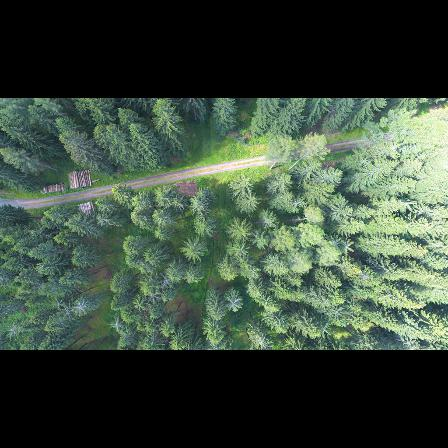Sick: (225, 293, 244, 312), (337, 238, 356, 256), (6, 322, 24, 340), (72, 299, 92, 315), (109, 318, 125, 331), (161, 274, 173, 291), (149, 290, 160, 303), (134, 300, 144, 311)
